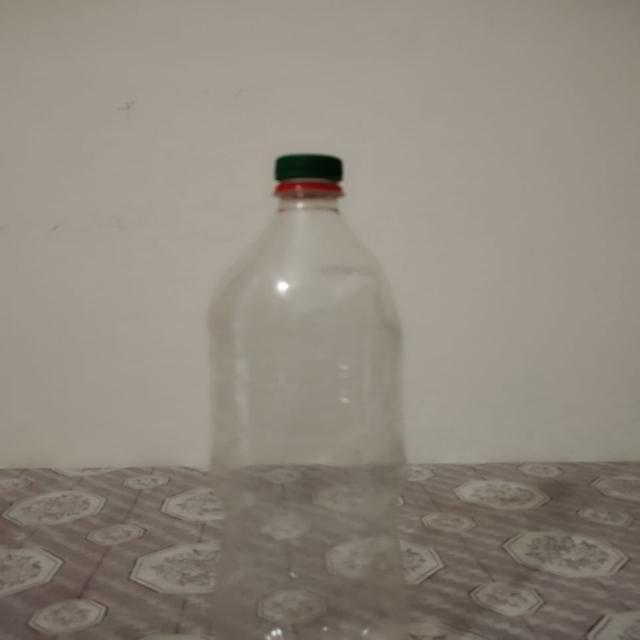bottle: (210, 151, 412, 640)
cap: (276, 155, 342, 193)
